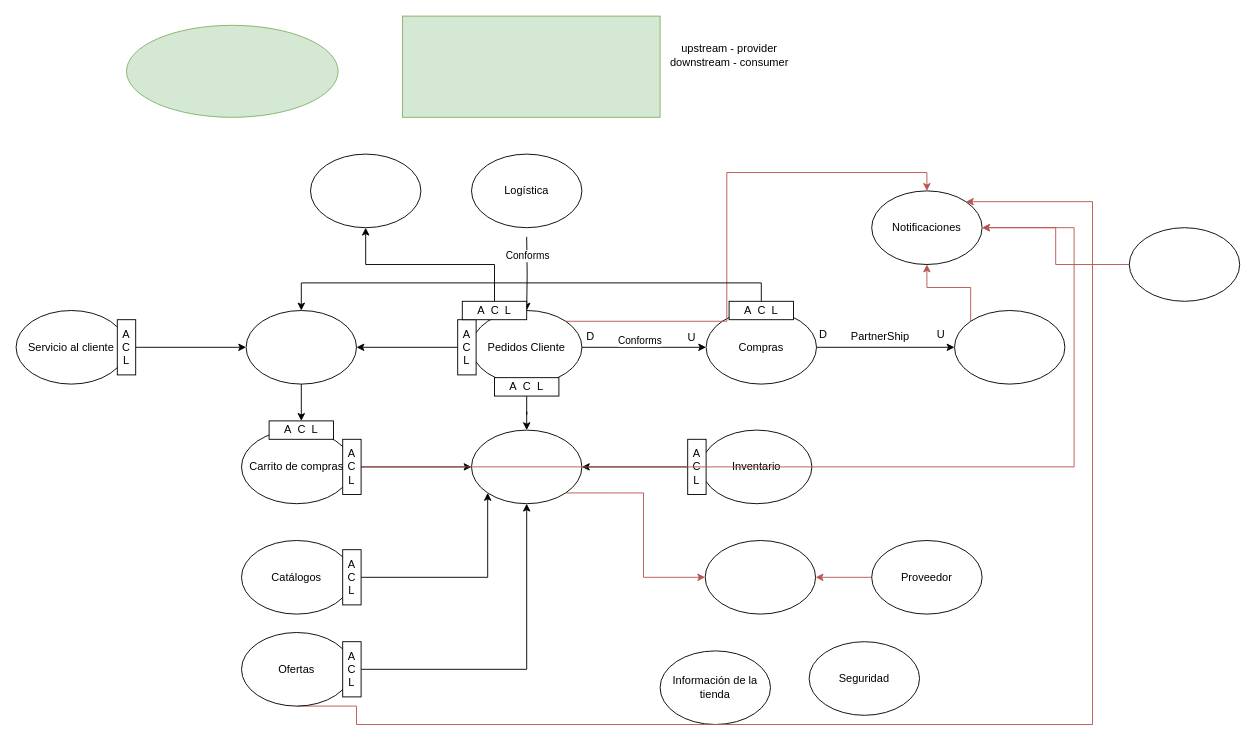
Some shapes in this 1256 by 748 pixel diagram are drawn without their labels. Here are the shapes that lost their labels. From the top down, the centre of each, then its label:
At point (232, 70): "Tienda Online".
At point (531, 66): "Big Idea Corresponde a la vista general relacionado con la Tienda Online.".
At point (365, 190): "Puntos de distribución".
At point (1184, 264): "Usuarios".
At point (300, 347): "Clientes".
At point (1009, 347): "Pagos".
At point (526, 466): "Productos".
At point (760, 577): "Pedidos Proveedores".
